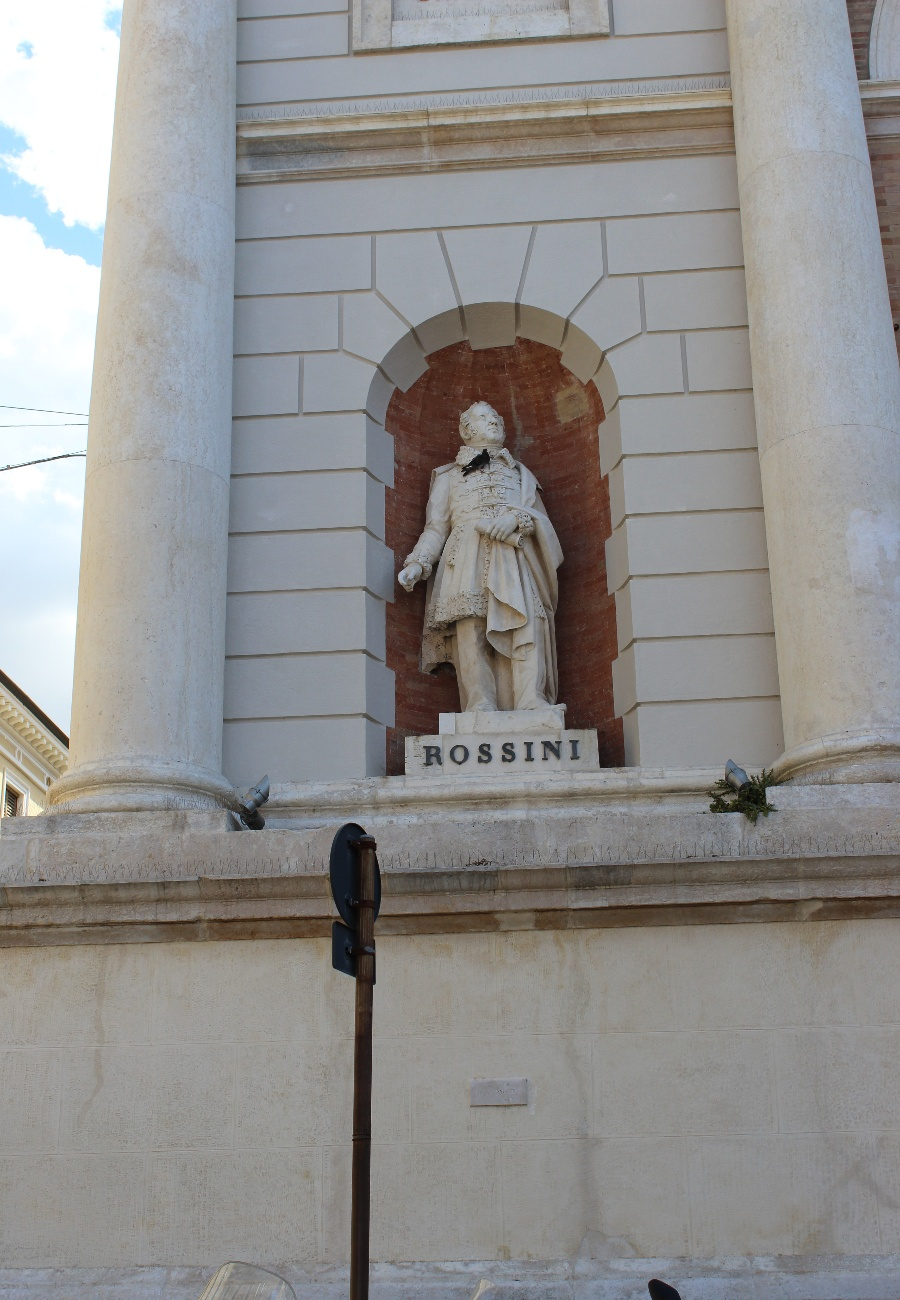Gioachino Rossini: (349, 296, 657, 797)
